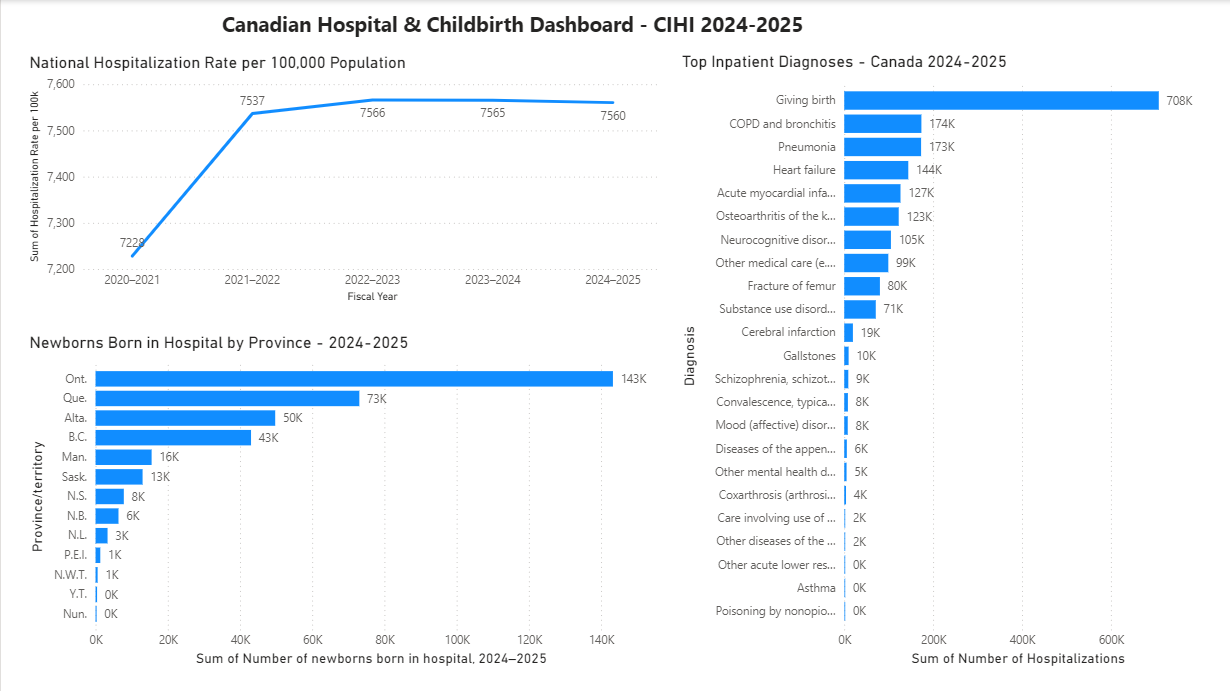

What the dashboard file says about the page in this screenshot:
{"tool":"powerbi","page":{"name":"Page 1","canvas":[1280,720],"ordinal":0},"visuals":[{"type":"lineChart","title":"National Hospitalization Rate per 100,000 Population","fields":{"Category":["table1_hospitalization_trends.Fiscal Year"],"Y":["Sum(table1_hospitalization_trends.Hospitalization Rate per 100k)"]},"box":[24.7,54.6,666.6,265.1],"z":0},{"type":"clusteredBarChart","title":"Top Inpatient Diagnoses - Canada 2024-2025","fields":{"Category":["table2_diagnoses_by_province.Diagnosis"],"Y":["Sum(table2_diagnoses_by_province.Number of Hospitalizations)"]},"box":[703,53.3,554.9,644.5],"z":1},{"type":"clusteredBarChart","title":"Newborns Born in Hospital by Province - 2024-2025","fields":{"Category":["table6_newborns_by_province.Province/territory"],"Y":["Sum(table6_newborns_by_province.Number of newborns born in hospital, 2024–2025)"]},"box":[24.7,345.7,666.6,352.2],"z":2},{"type":"textbox","box":[225.1,5.7,673.4,47.7],"z":3}]}

Visuals, with their boxes in screenshot pixels (x1, y1, x2, y2), scaled from the page's 1280x720 canvas onto the 1230x691 screenshot:
"National Hospitalization Rate per 100,000 Population" lineChart: x1=24, y1=52, x2=664, y2=307
"Top Inpatient Diagnoses - Canada 2024-2025" clusteredBarChart: x1=676, y1=51, x2=1209, y2=670
"Newborns Born in Hospital by Province - 2024-2025" clusteredBarChart: x1=24, y1=332, x2=664, y2=670
textbox: x1=216, y1=5, x2=863, y2=51
